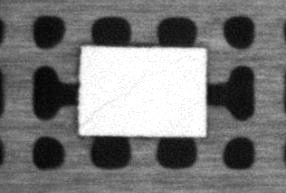DIE_CRACK: (91, 79, 145, 116)
